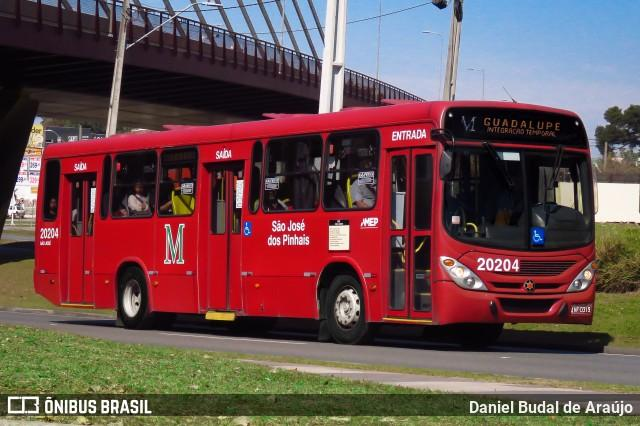GUADALUPE: (481, 115, 566, 134)
